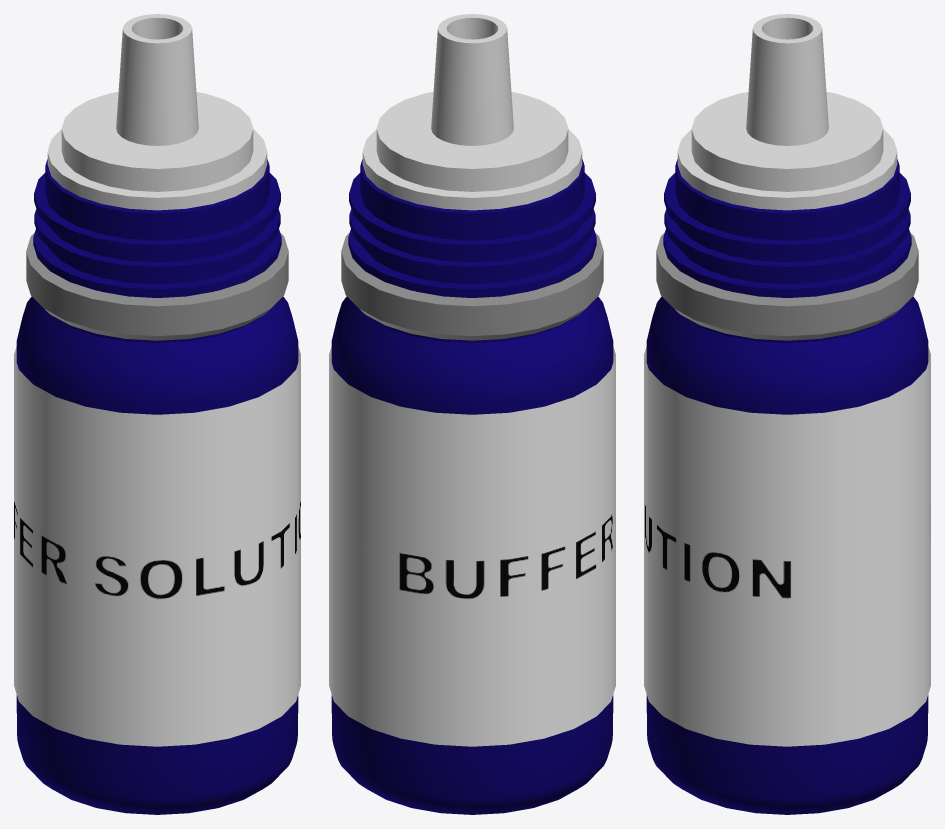
Rendered from Botalll.fbx.
The picture shows the model from 3 angles, left to right: view 1: azimuth 30°, elevation 25°; view 2: azimuth 150°, elevation 25°; view 3: azimuth 270°, elevation 25°; orthographic projection.
Visible parts, largest first — view 1: Circle; view 2: Circle; view 3: Circle.
Part boxes in pixels (x1,y1,x2,y2): Circle: [14, 14, 300, 814]; Circle: [329, 14, 615, 814]; Circle: [644, 14, 930, 814].
Bounding box in the file's own units: 2.32 × 6.57 × 2.32.
4 materials, 1 textured.
